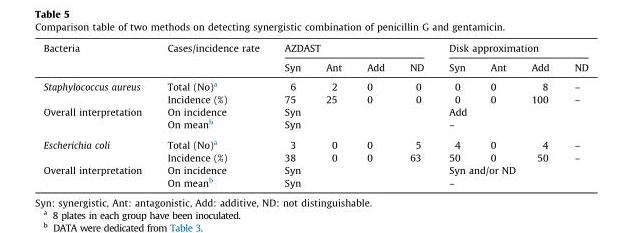table: (42, 43, 587, 187)
table column: (153, 43, 271, 187), (42, 43, 153, 187), (353, 43, 396, 187), (518, 43, 561, 187), (435, 43, 477, 187), (271, 43, 312, 187), (312, 43, 353, 187), (477, 43, 518, 187), (396, 43, 435, 187), (561, 43, 587, 187)
table column header: (42, 43, 587, 76)
table row: (42, 57, 587, 76), (42, 76, 587, 93), (42, 117, 587, 134), (42, 134, 587, 151), (42, 43, 587, 57), (42, 151, 587, 164), (42, 93, 587, 105), (42, 105, 587, 117), (42, 175, 587, 187), (42, 164, 587, 175)
table spanning cell: (153, 43, 271, 76), (42, 43, 153, 76), (42, 134, 153, 164), (42, 76, 153, 105), (42, 105, 153, 134), (271, 117, 435, 134), (435, 117, 587, 134), (42, 164, 153, 187), (271, 43, 435, 57), (435, 43, 587, 57), (271, 105, 435, 117), (271, 175, 435, 187), (435, 105, 587, 117), (435, 175, 587, 187), (271, 164, 435, 175), (435, 164, 587, 175)
